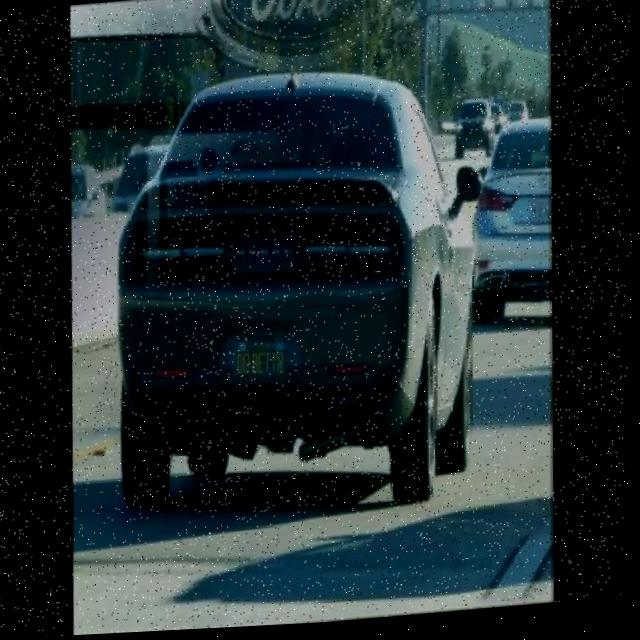LicensePlate: (233, 329, 288, 388)
